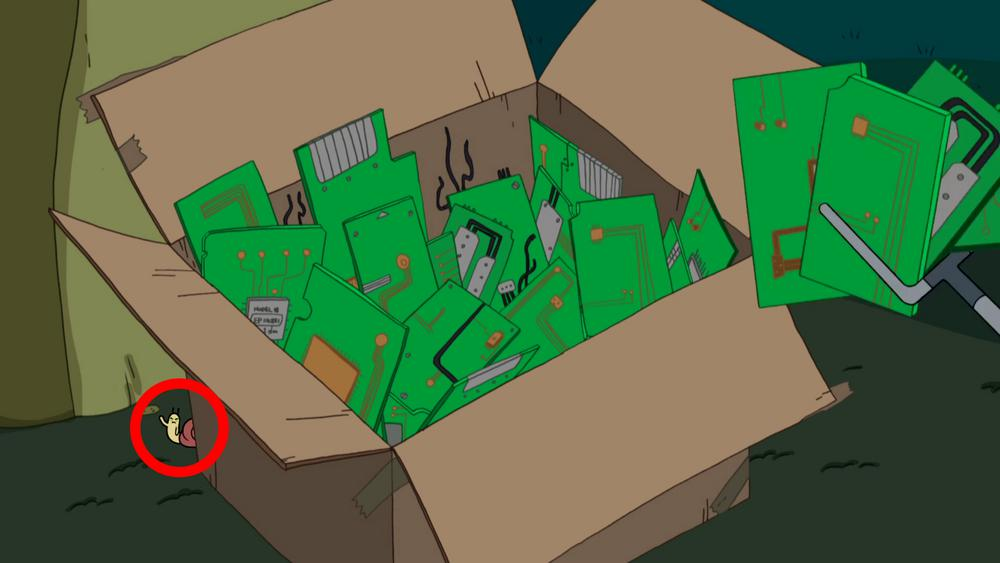snail: (157, 408, 198, 450)
